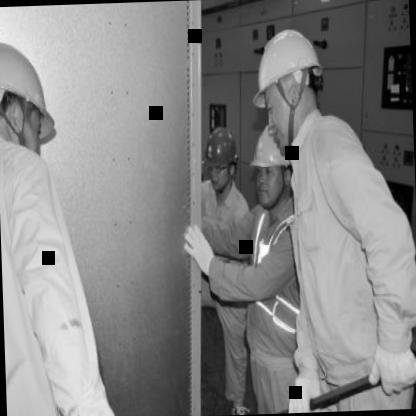helmet: (253, 20, 328, 146), (0, 26, 56, 170), (246, 119, 296, 214), (200, 122, 240, 200)
